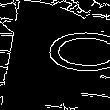O_W: (4, 31, 106, 79)
